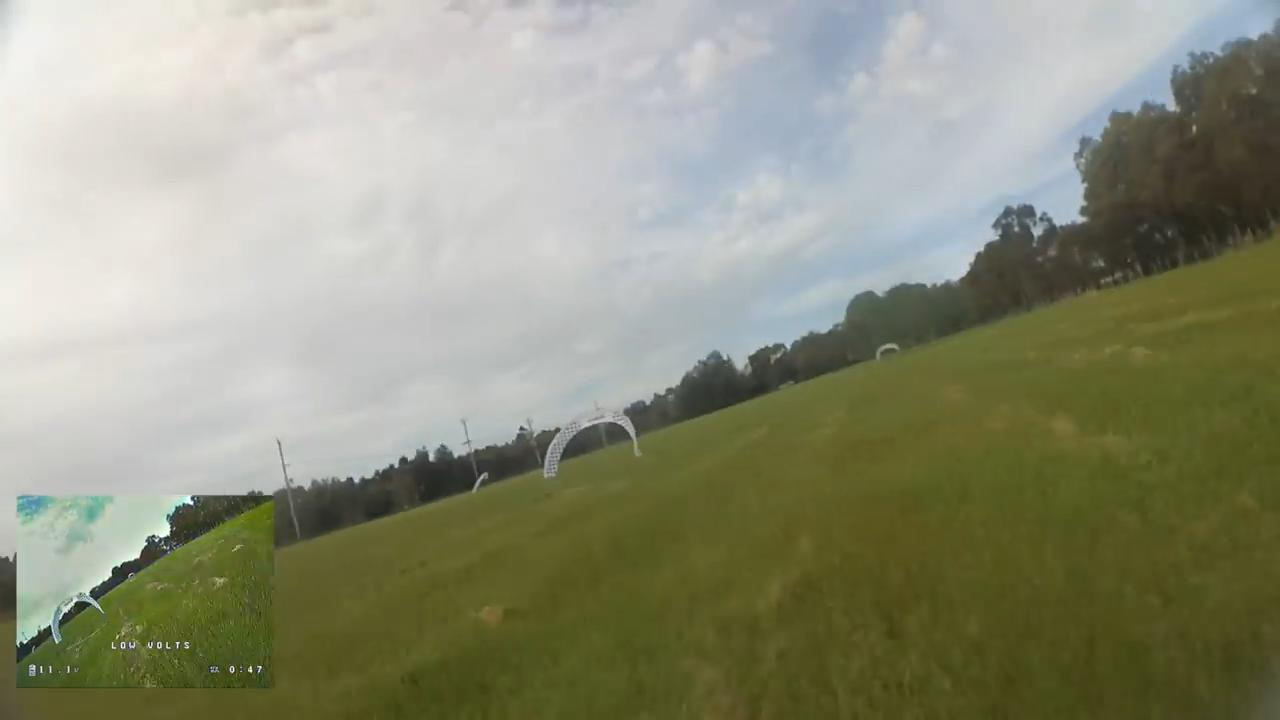gate: (538, 407, 644, 479)
